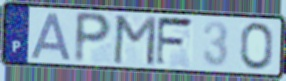3: (202, 20, 232, 69)
A: (29, 11, 74, 62)
F: (154, 15, 196, 69)
M: (111, 14, 159, 68)
O: (239, 21, 275, 72)
P: (72, 10, 115, 66)
